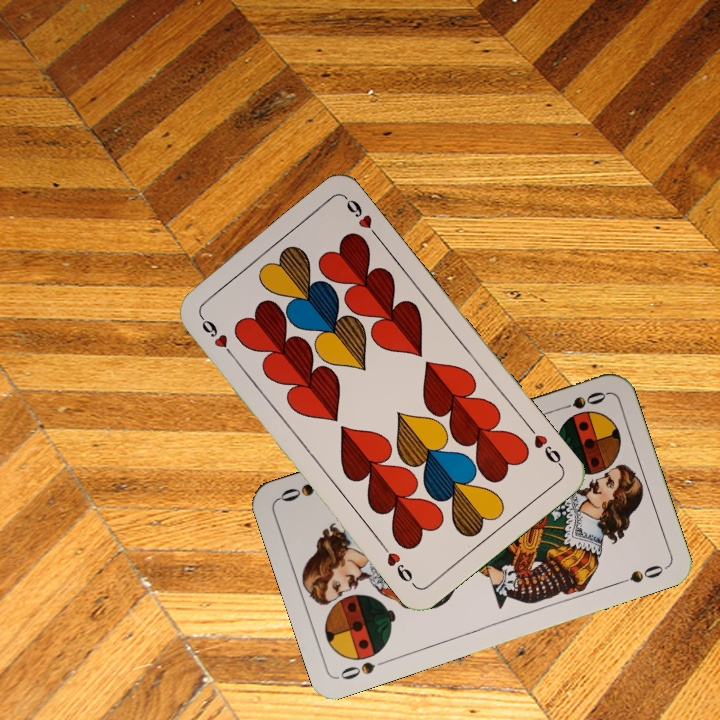H9: (523, 420, 565, 470), (196, 311, 238, 361)
SO: (551, 387, 609, 414), (336, 655, 392, 682)
